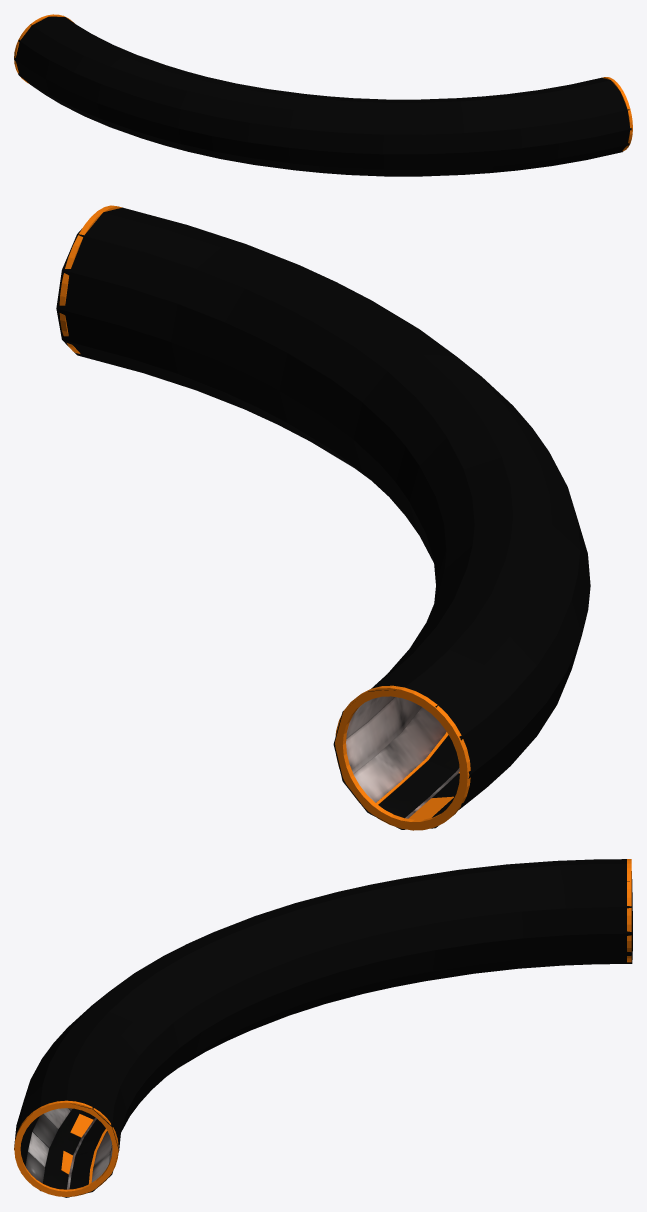
File: Pipe 90 Full + VFX.fbx
3 views of the same model, one above another, from view 1: azimuth 30°, elevation 25°; view 2: azimuth 150°, elevation 25°; view 3: azimuth 270°, elevation 25° (orthographic). The views are drawn at different scales.
Parts seen in each view (by area): view 1: Exterior, Variable color object; view 2: Exterior, Faces white, Variable color object, Faces black; view 3: Exterior, Variable color object, Faces black, Faces white, Faces chrome.
Boxes of the visible parts, x1,y1,x2,y2 form: Exterior: (14,16,631,176); Variable color object: (14,14,632,151); Exterior: (56,207,590,829); Faces white: (346,696,459,818); Variable color object: (59,205,470,830); Faces black: (378,735,459,818); Exterior: (14,859,632,1197); Variable color object: (14,859,631,1196); Faces black: (20,1108,105,1189); Faces white: (28,1108,112,1189); Faces chrome: (25,1108,72,1183).
Bounding box in the file's own units: 648 × 110 × 647.
